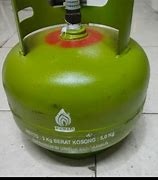gas_ijo: (2, 1, 151, 160)
